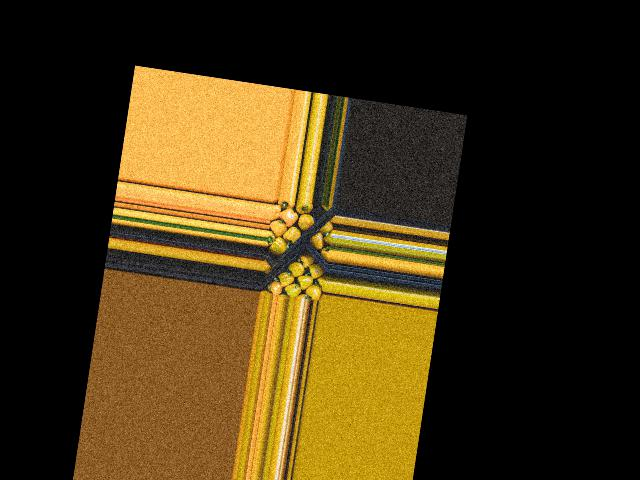bell_pepper: (306, 280, 325, 301)
